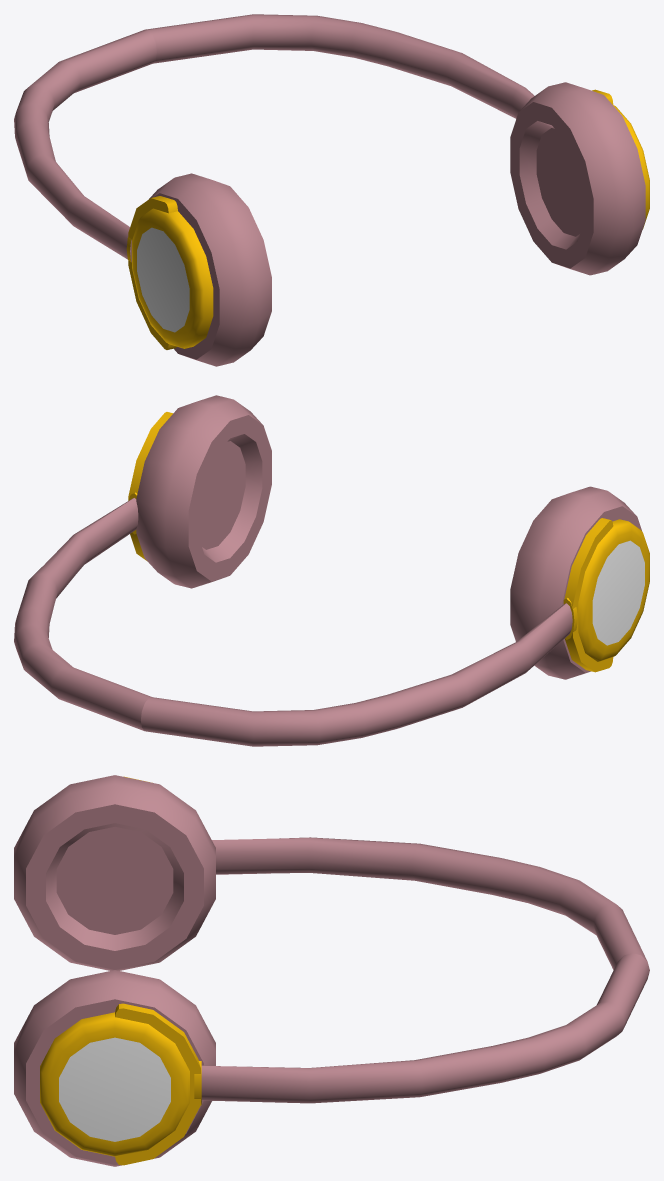
The model's file is Head Phone_3C.fbx.
3 views of the same model, one above another, from view 1: azimuth 30°, elevation 25°; view 2: azimuth 150°, elevation 25°; view 3: azimuth 270°, elevation 25° (orthographic). The views are drawn at different scales.
Visible parts, largest first — view 1: Head Phone_3C; view 2: Head Phone_3C; view 3: Head Phone_3C.
Boxes of the visible parts, bbox=[...] form: Head Phone_3C: bbox=[14, 14, 649, 366]; Head Phone_3C: bbox=[14, 395, 649, 746]; Head Phone_3C: bbox=[14, 775, 649, 1166].
Bounding box in the file's own units: 0.1887 × 0.0685 × 0.2101.
